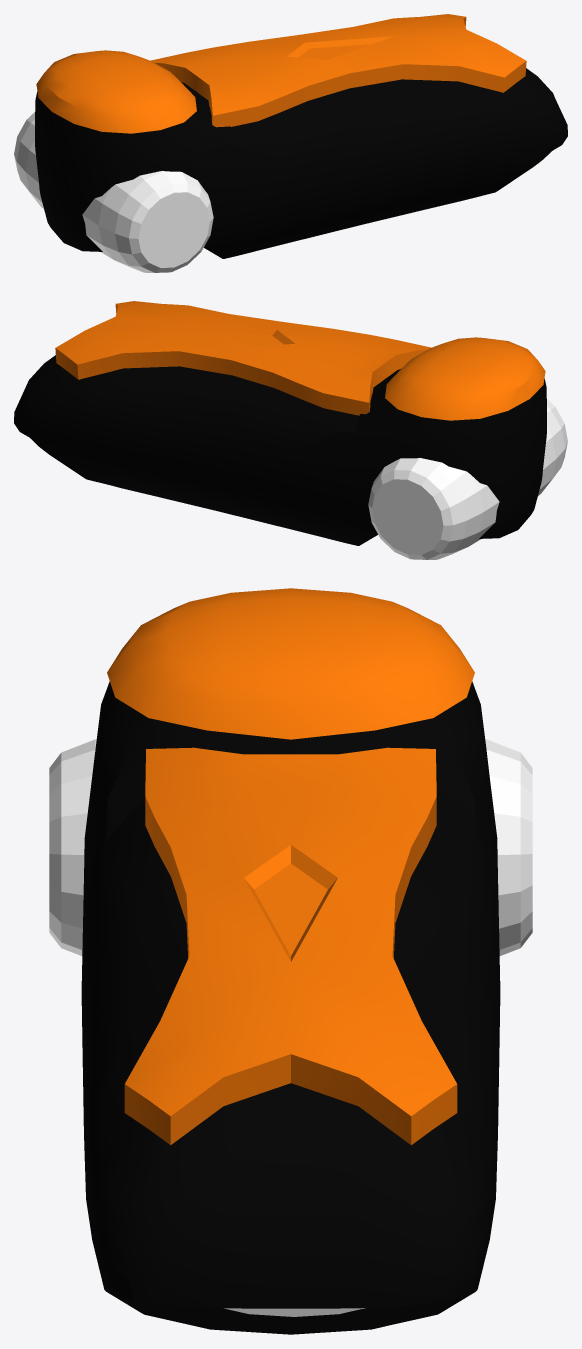
File: new_simHand_id32.fbx
3 views of the same model, one above another, from view 1: azimuth 30°, elevation 25°; view 2: azimuth 150°, elevation 25°; view 3: azimuth 270°, elevation 25° (orthographic). The views are drawn at different scales.
Parts seen in each view (by area): view 1: Cube.002, Cylinder.004; view 2: Cube.002, Cylinder.004; view 3: Cube.002, Cylinder.004.
Part boxes in pixels (x1,y1,x2,y2): Cube.002: (35,14,567,258); Cylinder.004: (14,112,213,272); Cube.002: (14,301,546,545); Cylinder.004: (368,399,567,559); Cube.002: (81,588,500,1334); Cylinder.004: (49,739,532,955).
Size of the model in its own units: 82.1 by 32.72 by 35.46.
